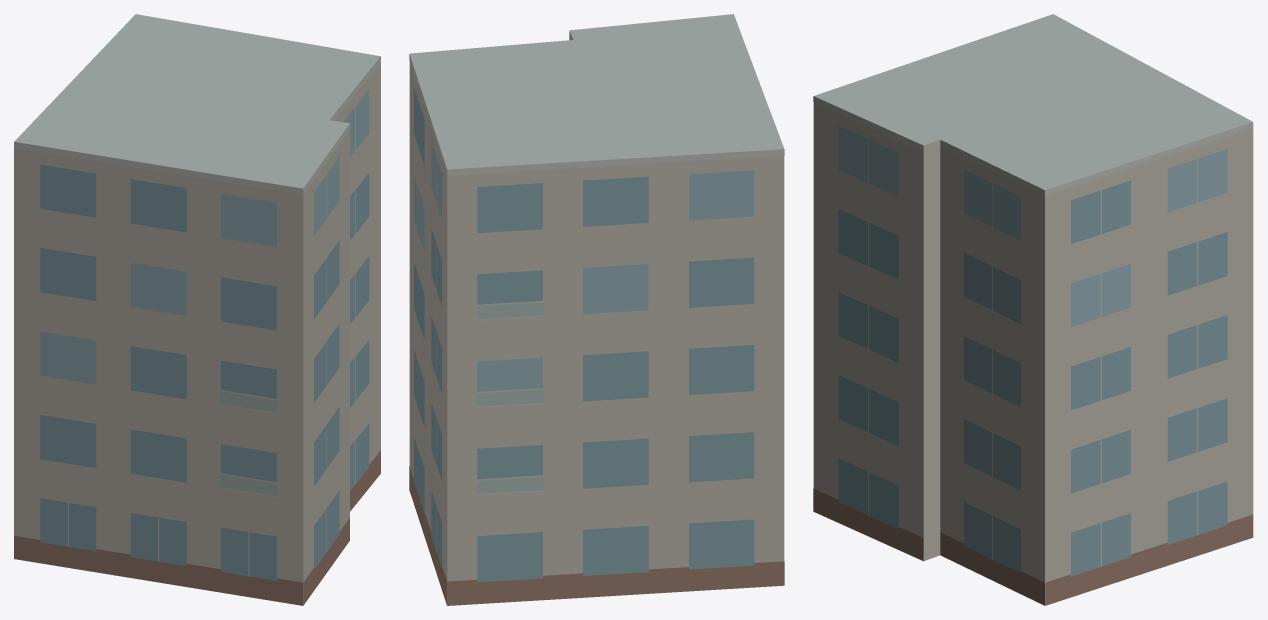
File: survey-upis-32823000.glb
3 views of the same model, side by side, from view 1: azimuth 30°, elevation 25°; view 2: azimuth 150°, elevation 25°; view 3: azimuth 270°, elevation 25° (orthographic). The views are drawn at different scales.
Visible parts, largest first — view 1: survey-upis-32823000.tmp; view 2: survey-upis-32823000.tmp; view 3: survey-upis-32823000.tmp.
Part boxes in pixels (<box>): survey-upis-32823000.tmp: <box>14,14,380,605</box>; survey-upis-32823000.tmp: <box>409,14,784,605</box>; survey-upis-32823000.tmp: <box>813,14,1253,605</box>.
Size of the model in its own units: 15.29 by 16.8 by 16.12.
